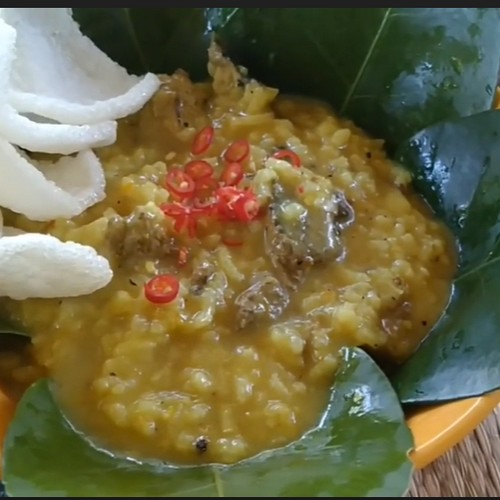bubur mengguh: (133, 79, 448, 412)
